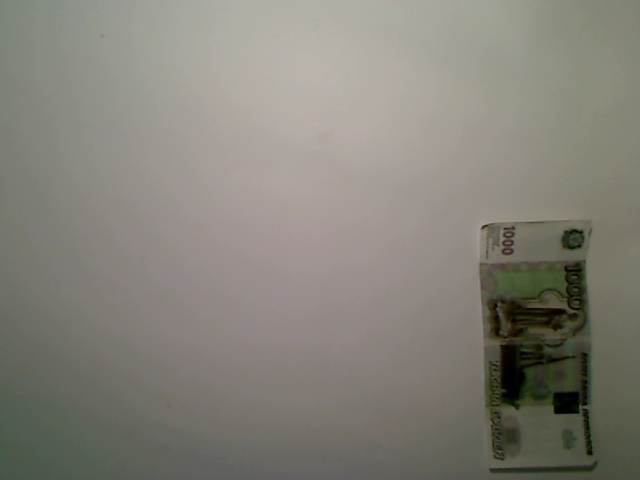banknotes: (474, 217, 598, 472)
